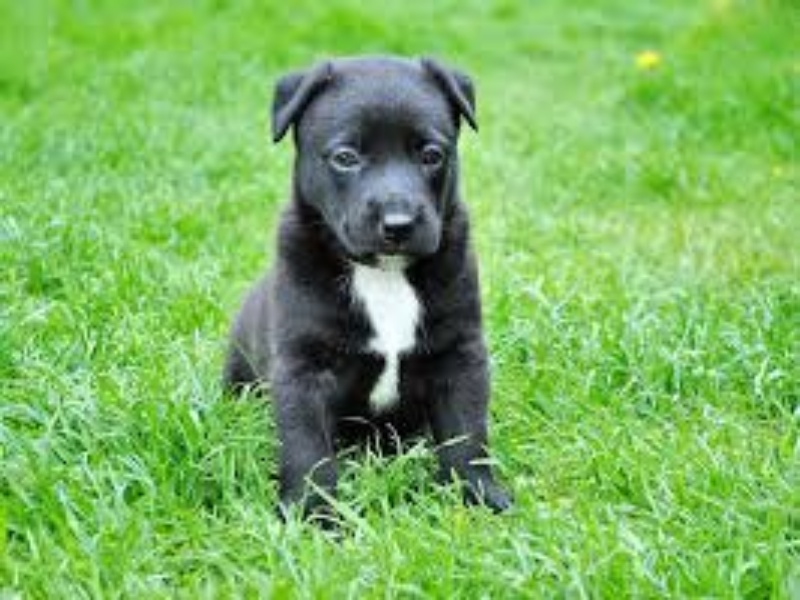dog: (214, 28, 579, 534)
